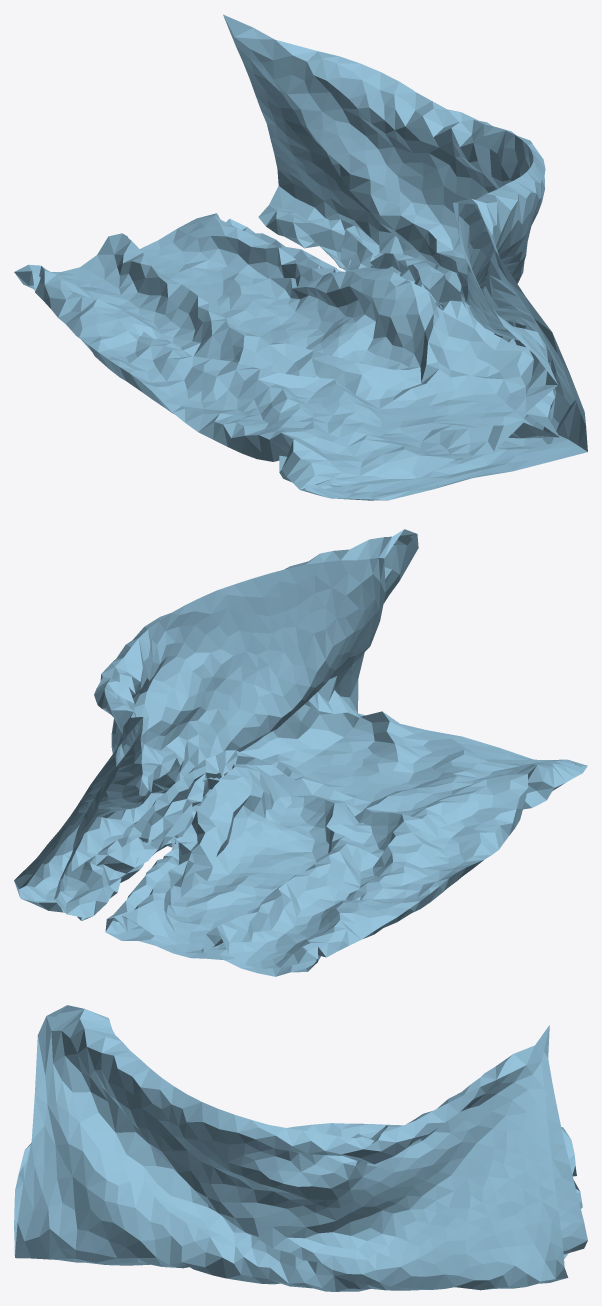
File: frame_12.glb
3 views of the same model, one above another, from view 1: azimuth 30°, elevation 25°; view 2: azimuth 150°, elevation 25°; view 3: azimuth 270°, elevation 25° (orthographic). The views are drawn at different scales.
Visible parts, largest first — view 1: frame_12.obj; view 2: frame_12.obj; view 3: frame_12.obj.
Boxes of the visible parts, x1,y1,x2,y2 form: frame_12.obj: (14, 14, 587, 500); frame_12.obj: (14, 529, 587, 976); frame_12.obj: (14, 1005, 587, 1291).
Bounding box in the file's own units: 1 × 0.6636 × 1.5.
